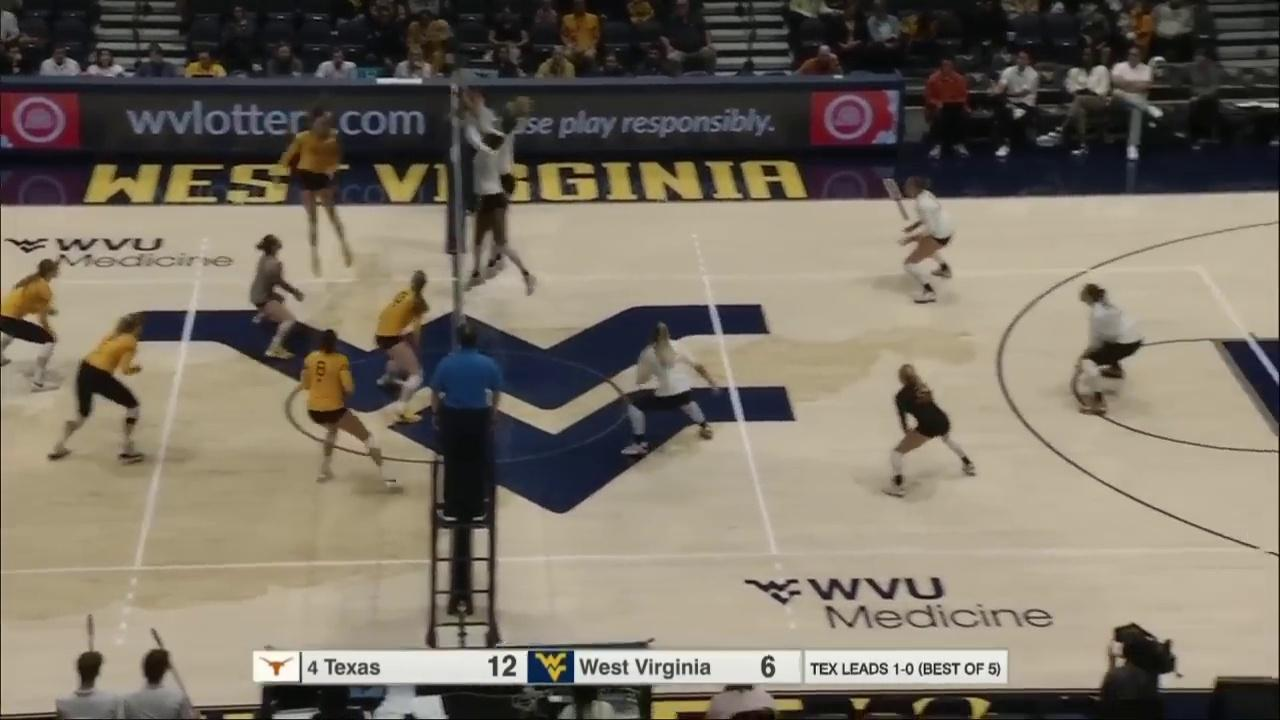player: (302, 330, 405, 488), (49, 315, 151, 463), (282, 108, 355, 279), (627, 321, 723, 450), (885, 364, 977, 497), (468, 122, 537, 295), (464, 90, 516, 279), (1075, 284, 1141, 411), (0, 257, 61, 390), (377, 268, 429, 423), (900, 177, 957, 304), (251, 233, 305, 359)
refree: (435, 325, 504, 519)
